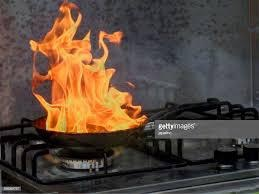fire: (25, 0, 147, 143)
